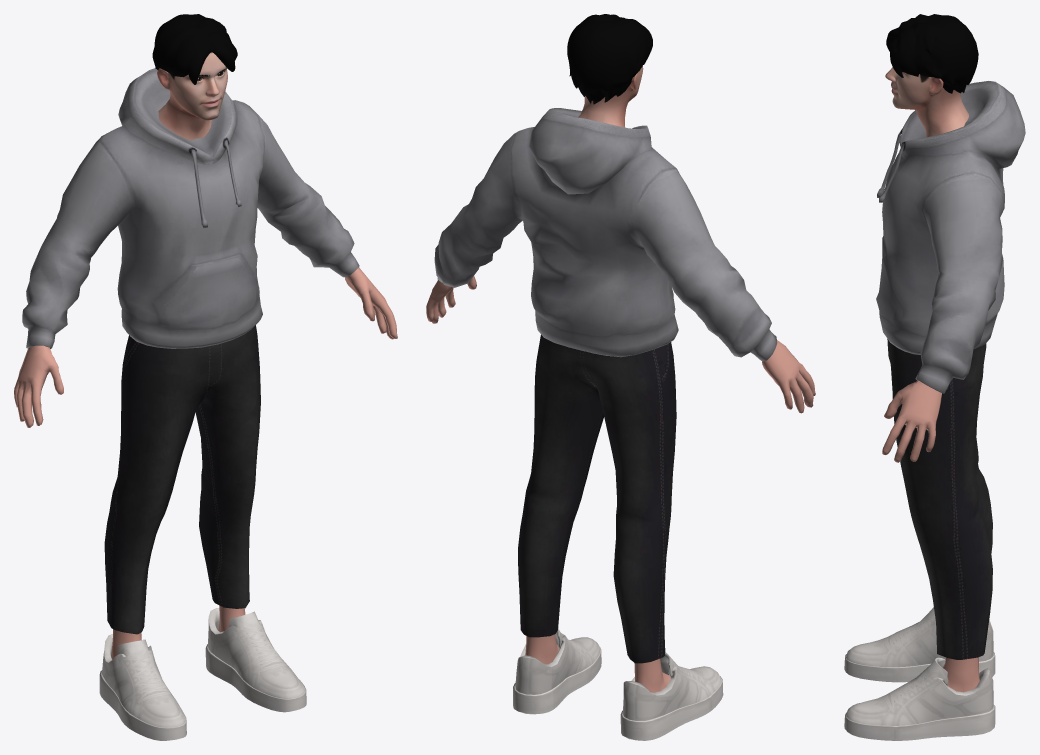
Rendered from BlenderAvatar.fbx.
The picture shows the model from 3 angles, left to right: view 1: azimuth 30°, elevation 25°; view 2: azimuth 150°, elevation 25°; view 3: azimuth 270°, elevation 25°; orthographic projection.
Visible parts, largest first — view 1: Wolf3D_Outfit_Top, Wolf3D_Outfit_Bottom, Wolf3D_Outfit_Footwear, Wolf3D_Body, Wolf3D_Hair, Wolf3D_Head; view 2: Wolf3D_Outfit_Top, Wolf3D_Outfit_Bottom, Wolf3D_Outfit_Footwear, Wolf3D_Hair, Wolf3D_Body, Wolf3D_Head; view 3: Wolf3D_Outfit_Top, Wolf3D_Outfit_Bottom, Wolf3D_Outfit_Footwear, Wolf3D_Hair, Wolf3D_Body, Wolf3D_Head.
Part boxes in pixels (box(x1,y1,x2,y2)): Wolf3D_Outfit_Top: box(22, 68, 359, 348); Wolf3D_Outfit_Bottom: box(104, 325, 260, 634); Wolf3D_Outfit_Footwear: box(99, 608, 306, 740); Wolf3D_Body: box(14, 267, 397, 659); Wolf3D_Hair: box(152, 14, 237, 84); Wolf3D_Head: box(157, 52, 227, 140); Wolf3D_Outfit_Top: box(434, 108, 777, 361); Wolf3D_Outfit_Bottom: box(518, 334, 676, 663); Wolf3D_Outfit_Footwear: box(513, 629, 723, 740); Wolf3D_Hair: box(567, 14, 652, 104); Wolf3D_Body: box(426, 276, 815, 692); Wolf3D_Head: box(578, 66, 643, 127); Wolf3D_Outfit_Top: box(876, 81, 1025, 393); Wolf3D_Outfit_Bottom: box(887, 339, 992, 659); Wolf3D_Outfit_Footwear: box(844, 607, 995, 740); Wolf3D_Hair: box(886, 14, 978, 93); Wolf3D_Body: box(882, 380, 979, 692); Wolf3D_Head: box(885, 67, 968, 137).
Bounding box in the file's own units: 106 × 185 × 44.55.
Materials: 8 (8 with a texture image).
